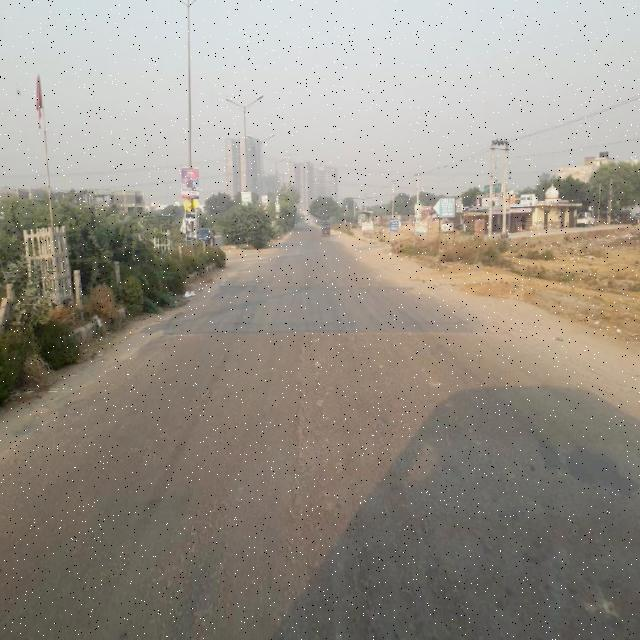D00: (289, 330, 319, 505), (346, 502, 381, 634)
D20: (142, 463, 258, 621)
